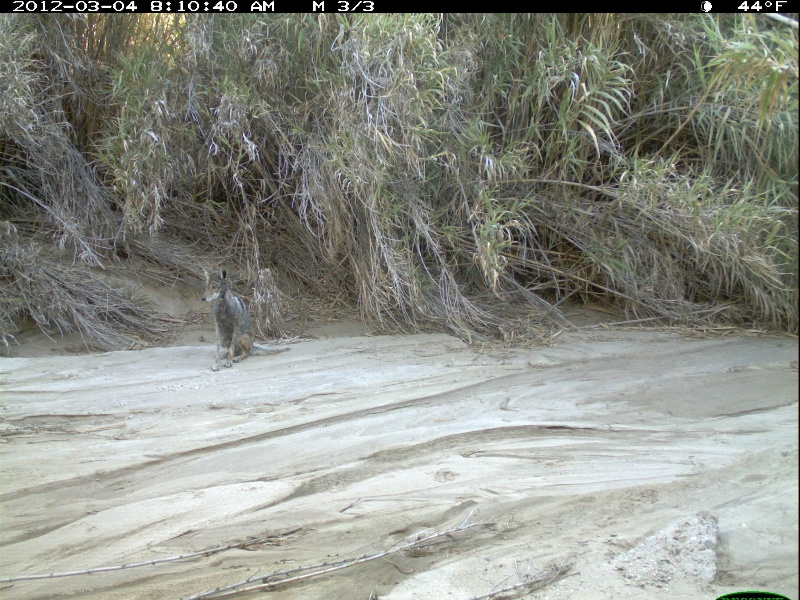coyote: (194, 266, 289, 368)
